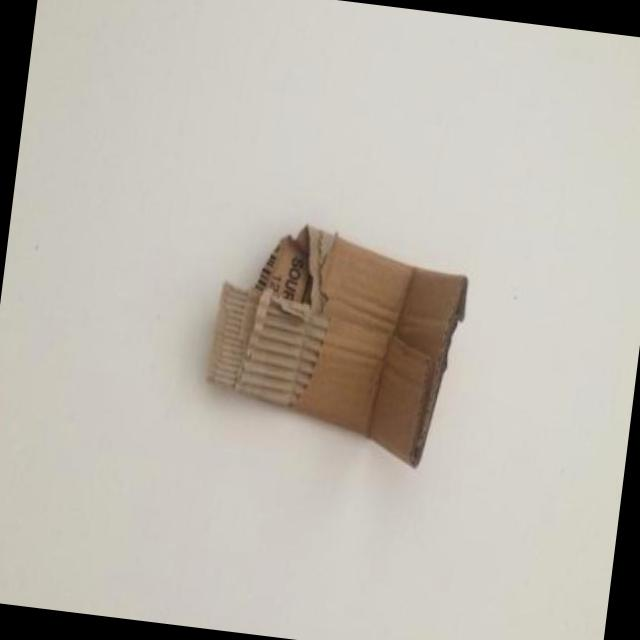cardboard paper: (209, 229, 467, 467)
